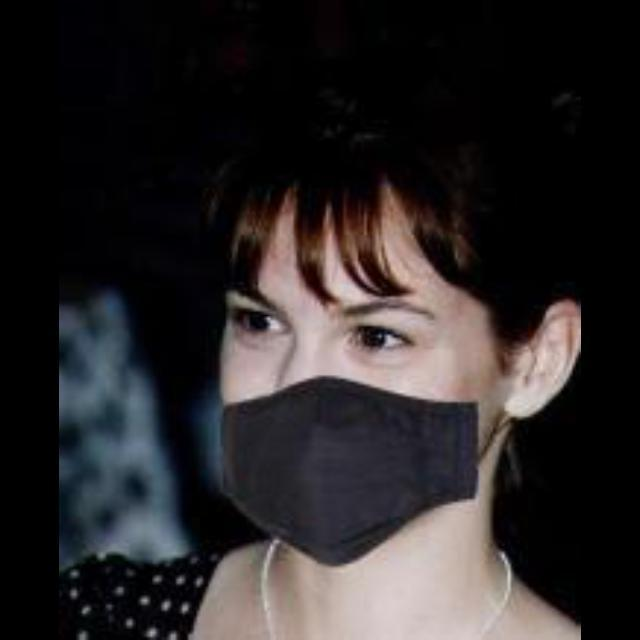suspicion: (119, 105, 483, 589)
